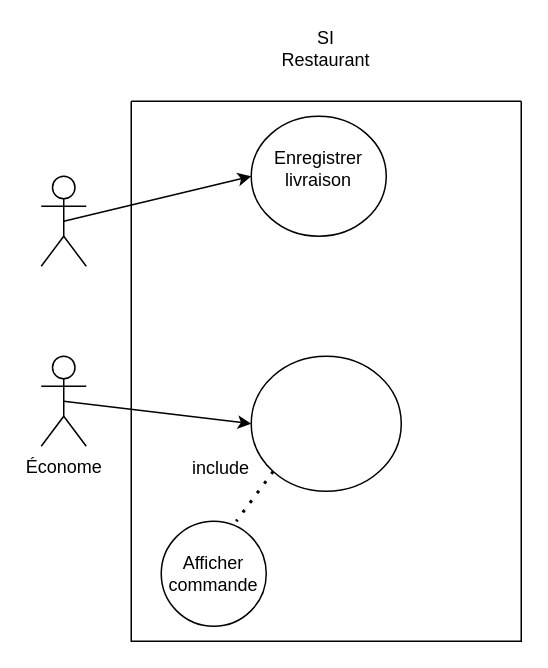
Some shapes in this 548 by 668 pixel diagram are drawn without their labels. Each missing label, with the centre of its shape:
"Cuisinier" belongs at point 63,220.
"Définir cmd" belongs at point 325,423.
